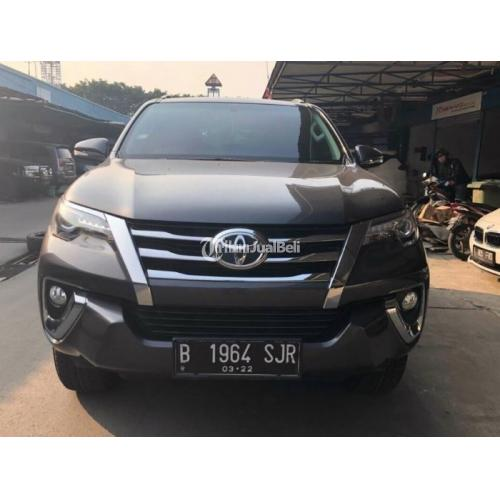plate: (174, 338, 298, 377)
